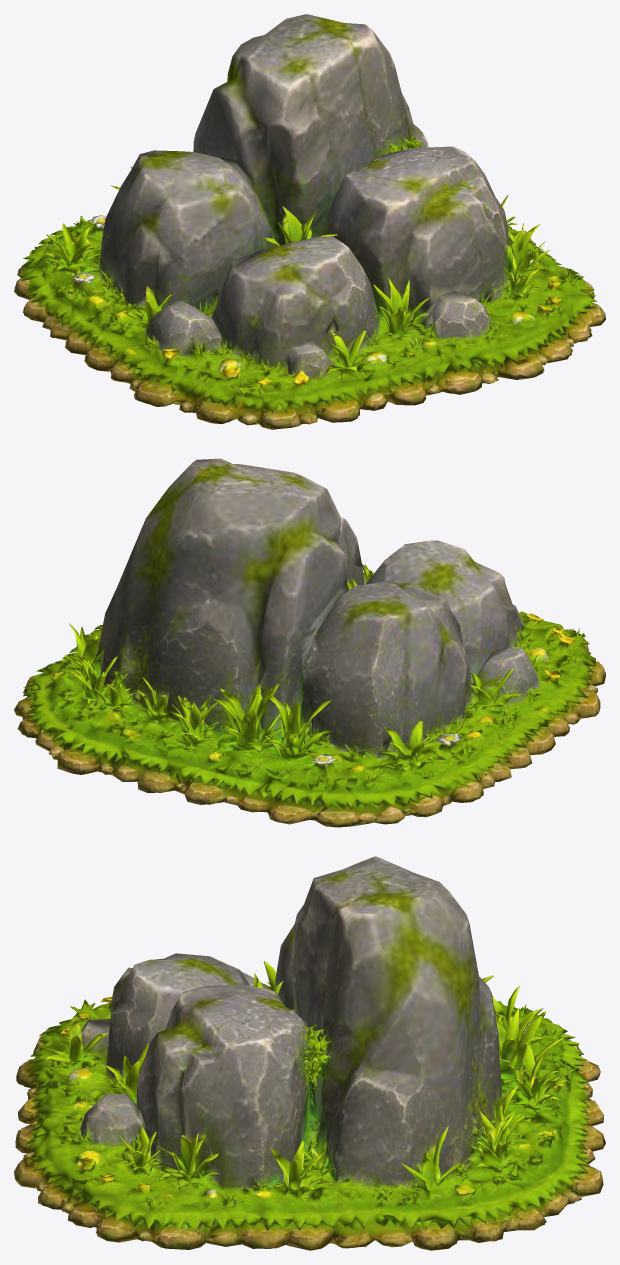
The model's file is Rock cluster.glb.
3 views of the same model, one above another, from view 1: azimuth 30°, elevation 25°; view 2: azimuth 150°, elevation 25°; view 3: azimuth 270°, elevation 25° (orthographic). The views are drawn at different scales.
Size of the model in its own units: 1.87 by 0.9343 by 1.9.
Materials: 1 (1 with a texture image).
